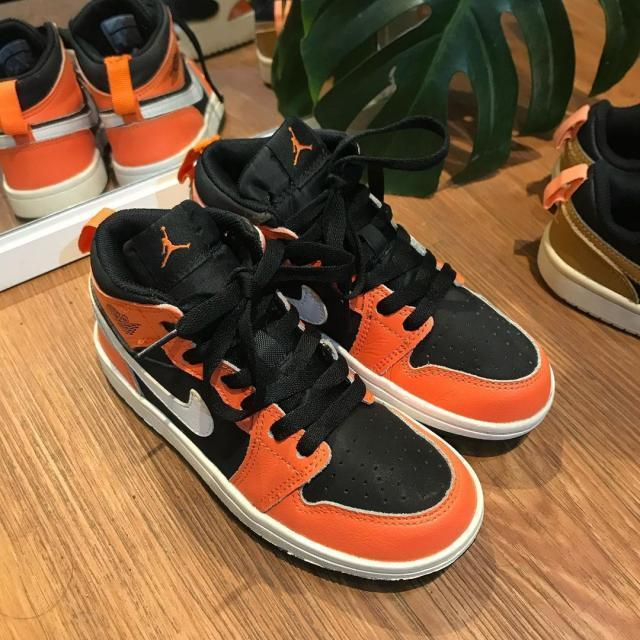nike fake jordan 1: (86, 202, 487, 588), (184, 119, 566, 442)
